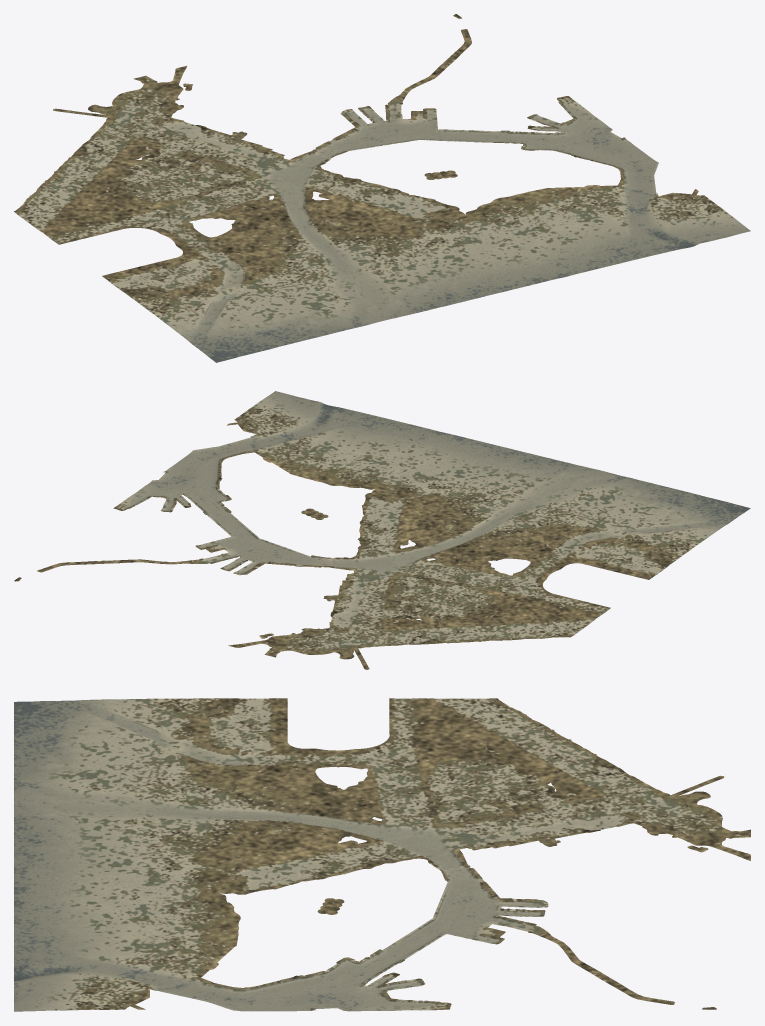
The model's file is seabed.gltf.
3 views of the same model, one above another, from view 1: azimuth 30°, elevation 25°; view 2: azimuth 150°, elevation 25°; view 3: azimuth 270°, elevation 25° (orthographic). The views are drawn at different scales.
Parts seen in each view (by area): view 1: seabed_world, seabed_middle, seabed_venue; view 2: seabed_world, seabed_middle, seabed_venue; view 3: seabed_world, seabed_middle, seabed_venue.
Part boxes in pixels (bbox=[...]): seabed_world: bbox=[14, 14, 750, 362]; seabed_middle: bbox=[127, 101, 531, 266]; seabed_venue: bbox=[262, 156, 396, 209]; seabed_world: bbox=[14, 391, 750, 669]; seabed_middle: bbox=[202, 472, 555, 623]; seabed_venue: bbox=[328, 522, 435, 573]; seabed_world: bbox=[14, 698, 750, 1011]; seabed_middle: bbox=[205, 779, 559, 930]; seabed_venue: bbox=[323, 829, 441, 878].
Size of the model in its own units: 5000 by 29.13 by 5000.
Materials: 1 (1 with a texture image).
